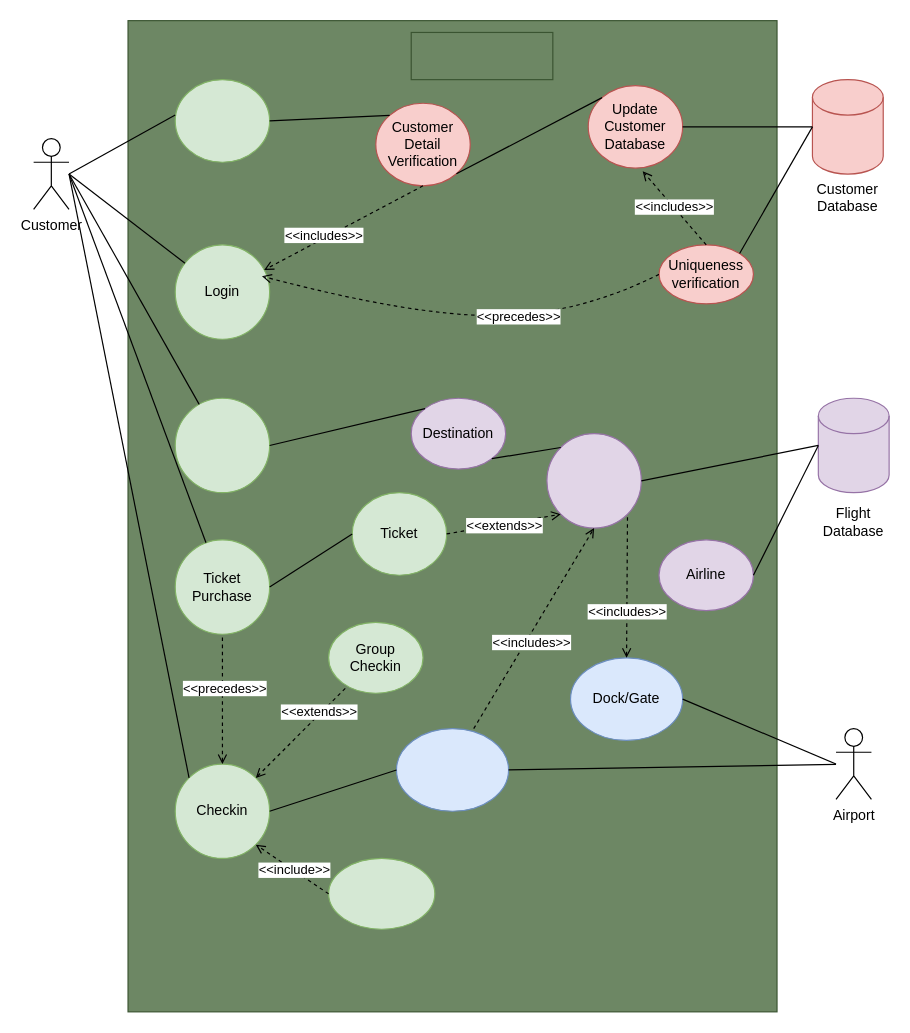
Some shapes in this 910 by 1033 pixel diagram are drawn without their labels. Here are the shapes that lost their labels. From the top down, the box of each, then its label:
(410, 31, 553, 80): Customer Flight Management
(174, 78, 270, 162): Register
(174, 397, 270, 493): Flight Search
(546, 432, 641, 528): Flight
(395, 727, 509, 811): Access Boardig pass
(327, 857, 435, 929): Drop Luggage
